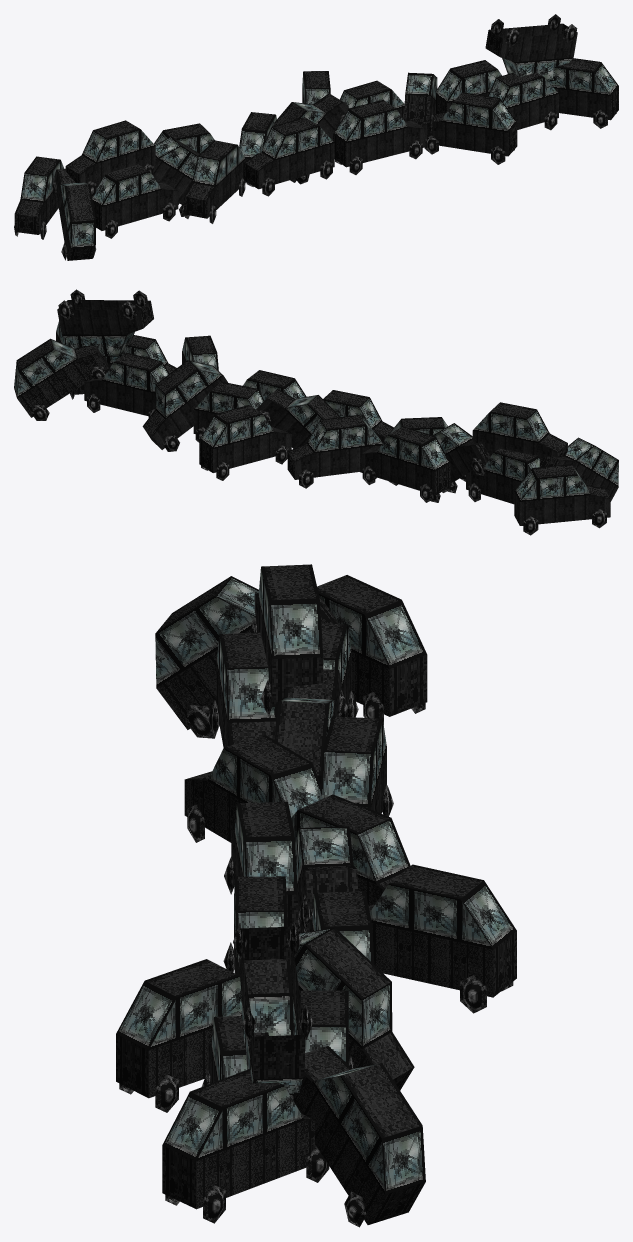
The model's file is carsfence.obj.
3 views of the same model, one above another, from view 1: azimuth 30°, elevation 25°; view 2: azimuth 150°, elevation 25°; view 3: azimuth 270°, elevation 25° (orthographic). The views are drawn at different scales.
Visible parts, largest first — view 1: carsfence; view 2: carsfence; view 3: carsfence.
Part boxes in pixels (x1=…): carsfence: x1=14, y1=14, x2=618, y2=260; carsfence: x1=14, y1=289, x2=618, y2=535; carsfence: x1=116, y1=564, x2=516, y2=1227.
Bounding box in the file's own units: 32.48 × 6.34 × 9.75.
